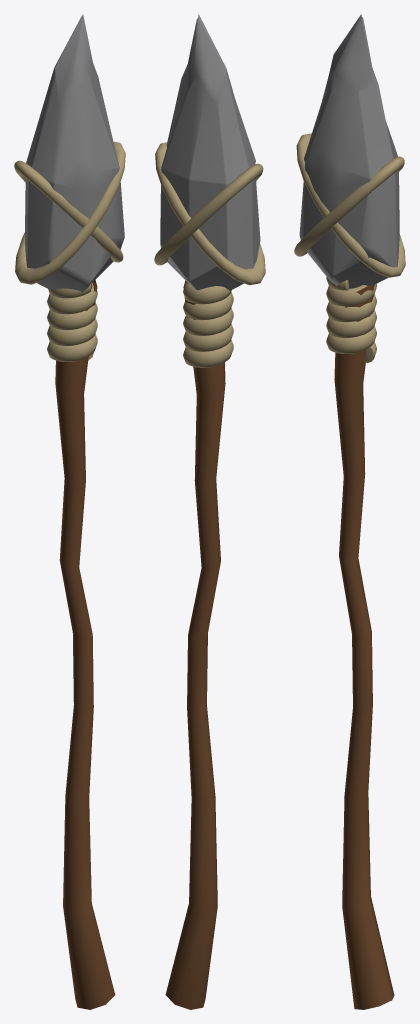
Rendered from spear_level1.glb.
3 renders of one model, left to right at view 1: azimuth 30°, elevation 25°; view 2: azimuth 150°, elevation 25°; view 3: azimuth 330°, elevation 25°, orthographic.
Parts seen in each view (by area): view 1: low_poly_stylized_spear; view 2: low_poly_stylized_spear; view 3: low_poly_stylized_spear.
Boxes of the visible parts, box(x1,y1,x2,y2) form: low_poly_stylized_spear: box(14, 14, 125, 1009); low_poly_stylized_spear: box(154, 14, 265, 1009); low_poly_stylized_spear: box(294, 14, 405, 1009).
Size of the model in its own units: 0.0139 by 0.129 by 0.0107.
